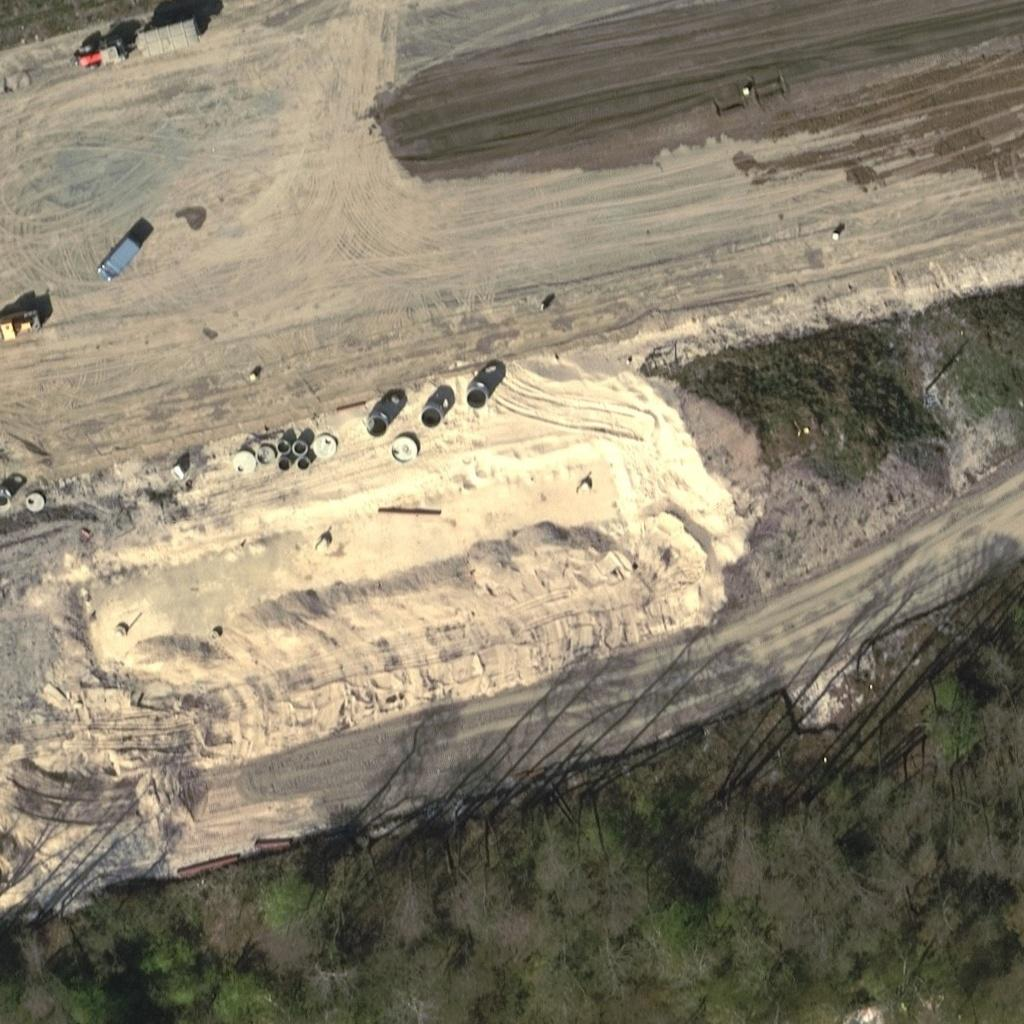samochod_osobowy: (92, 235, 144, 284)
spychacz: (0, 307, 45, 344)
